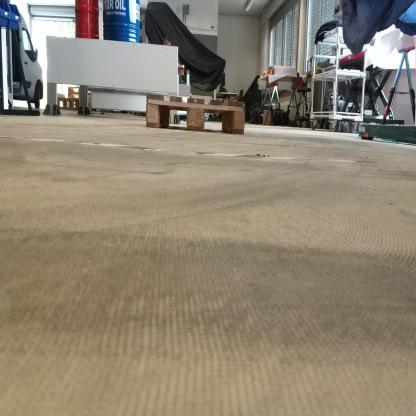BoxFace: (144, 93, 246, 136)
